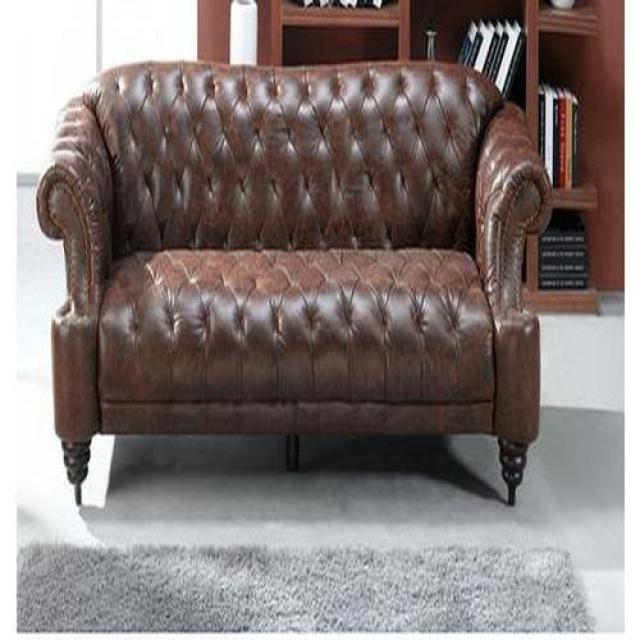sofa: (35, 60, 554, 504)
